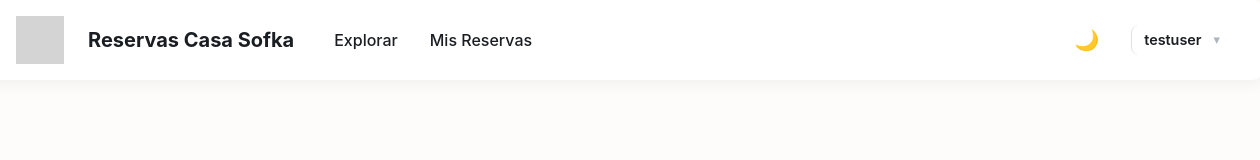
Header › debe mostrar menú de usuario al hacer clic
The image size is (1260, 160).
Click the text "testuser": x=1173, y=40 [1144, 29, 1202, 51]
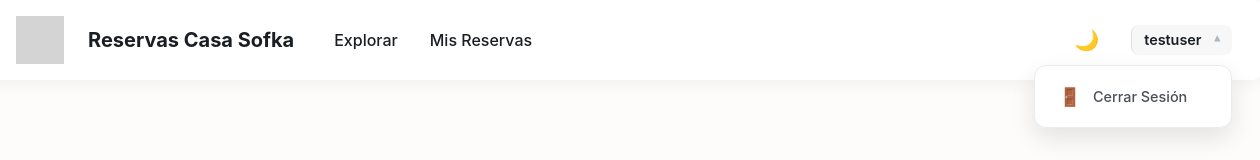
Check: the button "🚪 Cerrar Sesión" is shown, box [1043, 74, 1223, 119]
